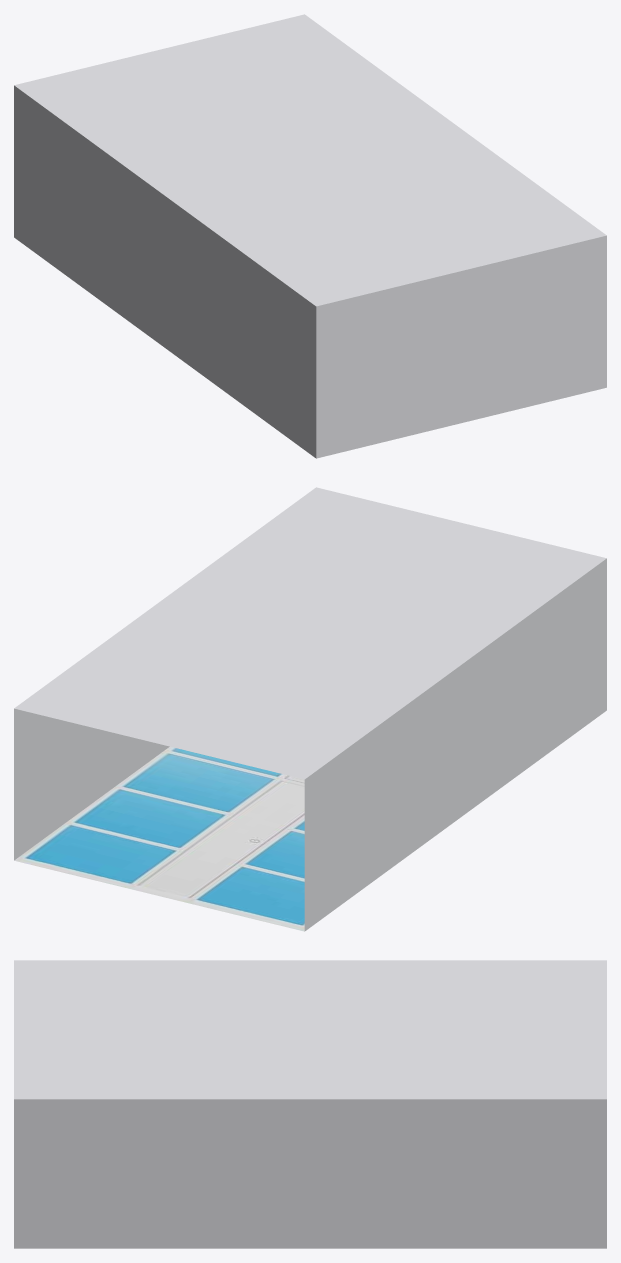
The picture shows the model from 3 angles, top to bottom: view 1: azimuth 30°, elevation 25°; view 2: azimuth 150°, elevation 25°; view 3: azimuth 270°, elevation 25°; orthographic projection.
Visible parts, largest first — view 1: Cube; view 2: Cube; view 3: Cube.
Part boxes in pixels (x1,y1,x2,y2): Cube: (14,14,606,458); Cube: (14,487,606,931); Cube: (14,960,606,1248).
Size of the model in its own units: 1 by 0.5 by 1.8.
1 material, 1 textured.
